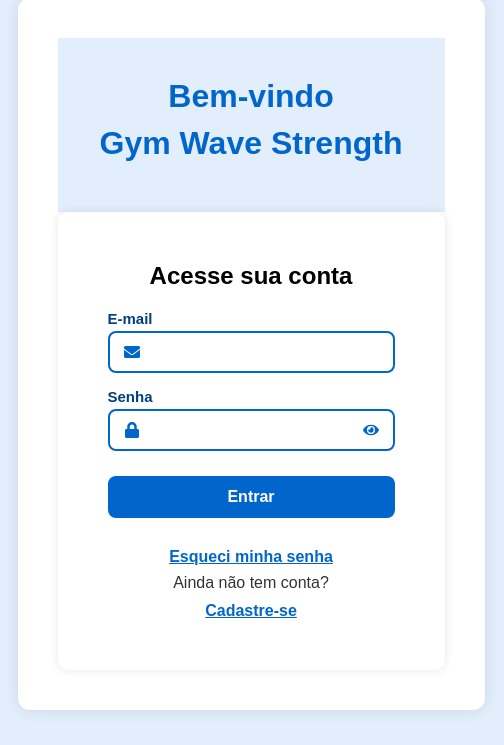
Test case: G17 — AuthPage › 'Cadastre-se' mostra o cadastro; 'Já tenho conta' volta ao login
What coordinates should you click on to do the following:
click the button "Cadastre-se"
I would click on:
 (251, 611)
Its box is [125,602,377,620].
(page scrolled)
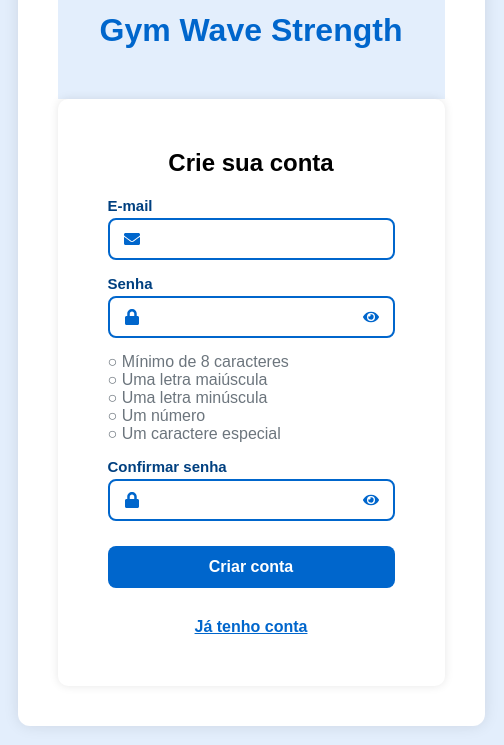
Expected: the button "Entrar" is gone
What coordinates should you click on to do the following:
click the button "Já tenho conta"
I would click on:
 (251, 627)
Its box is [108,618,394,636].
(page scrolled)
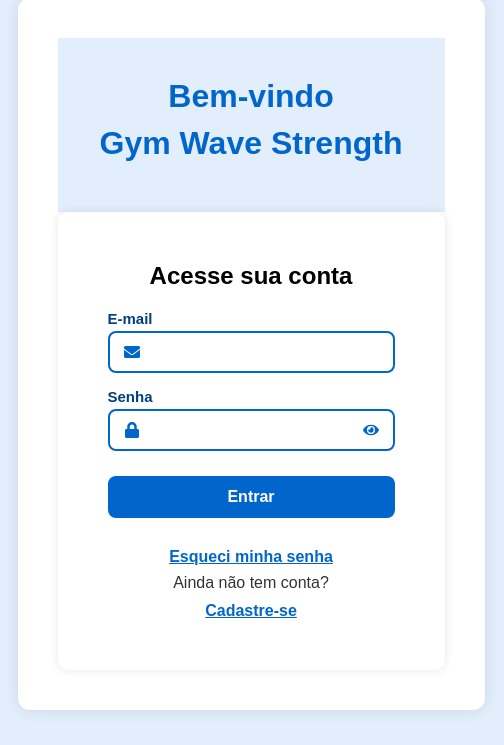
Expected: the button "Entrar" is shown, [108,476,394,518]
Expected: the label labelled "Confirmar senha" is gone
